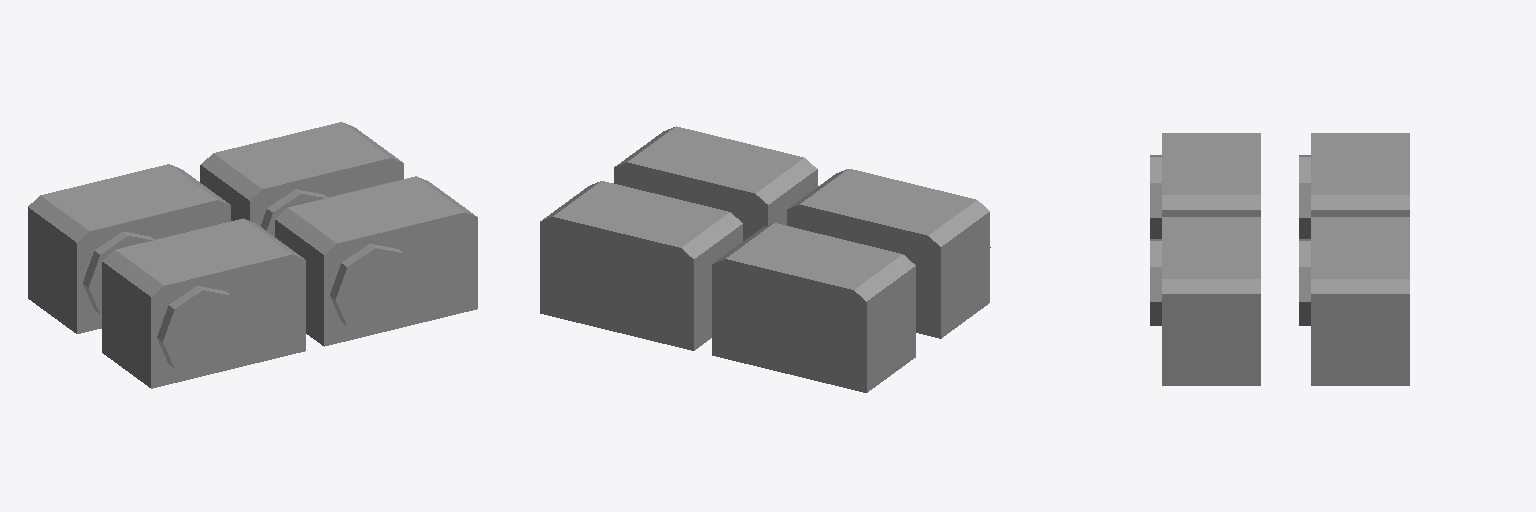
Rendered from AC_Unitx4.obj.
3 renders of one model, left to right at view 1: azimuth 30°, elevation 25°; view 2: azimuth 150°, elevation 25°; view 3: azimuth 270°, elevation 25°, orthographic.
Visible parts, largest first — view 1: AC_Unitx4_Cube.108; view 2: AC_Unitx4_Cube.108; view 3: AC_Unitx4_Cube.108.
Boxes of the visible parts, <box> form: AC_Unitx4_Cube.108: <box>28,122,477,388</box>; AC_Unitx4_Cube.108: <box>540,126,990,392</box>; AC_Unitx4_Cube.108: <box>1150,133,1409,385</box>.
Bounding box in the file's own units: 0.6048 × 0.1767 × 0.4153.